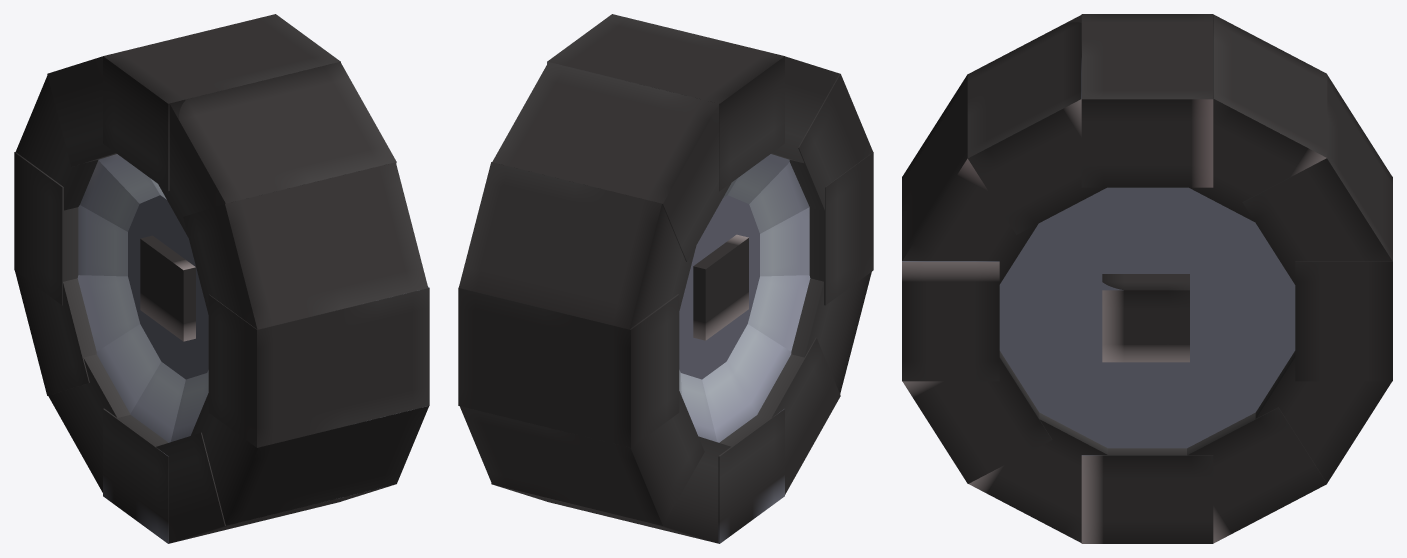
File: wuling_left_wheel.obj
3 views of the same model, side by side, from view 1: azimuth 30°, elevation 25°; view 2: azimuth 150°, elevation 25°; view 3: azimuth 270°, elevation 25° (orthographic).
Visible parts, largest first — view 1: CheLun; view 2: CheLun; view 3: CheLun.
Part boxes in pixels (x1,y1,x2,y2): CheLun: (14, 14, 429, 543); CheLun: (458, 14, 873, 543); CheLun: (902, 14, 1392, 543).
Size of the model in its own units: 0.4127 by 0.9092 by 0.9092.
